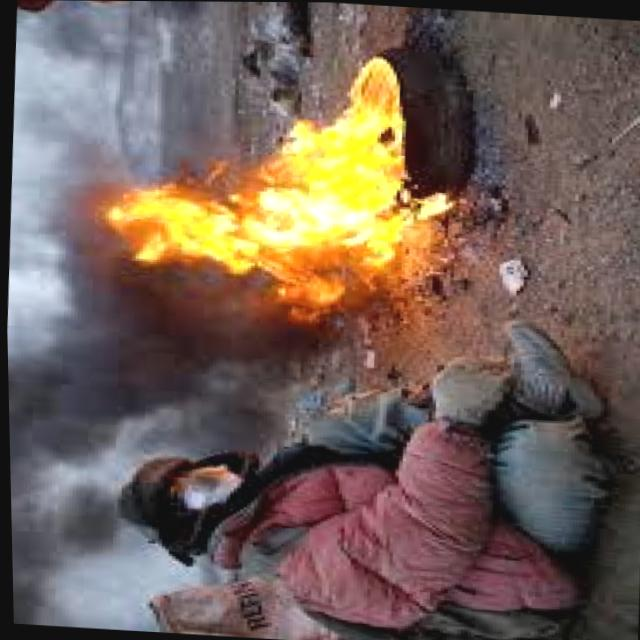Fire: (117, 67, 420, 281)
Smoke: (4, 248, 319, 459)
